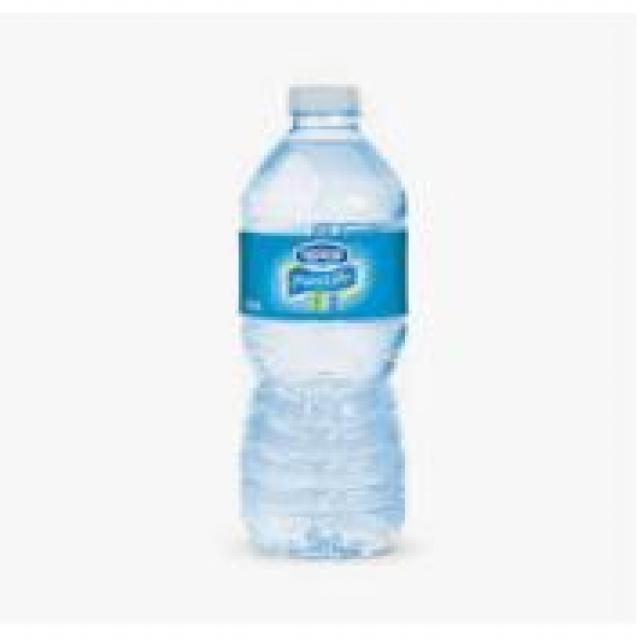bottle: (202, 62, 436, 570)
